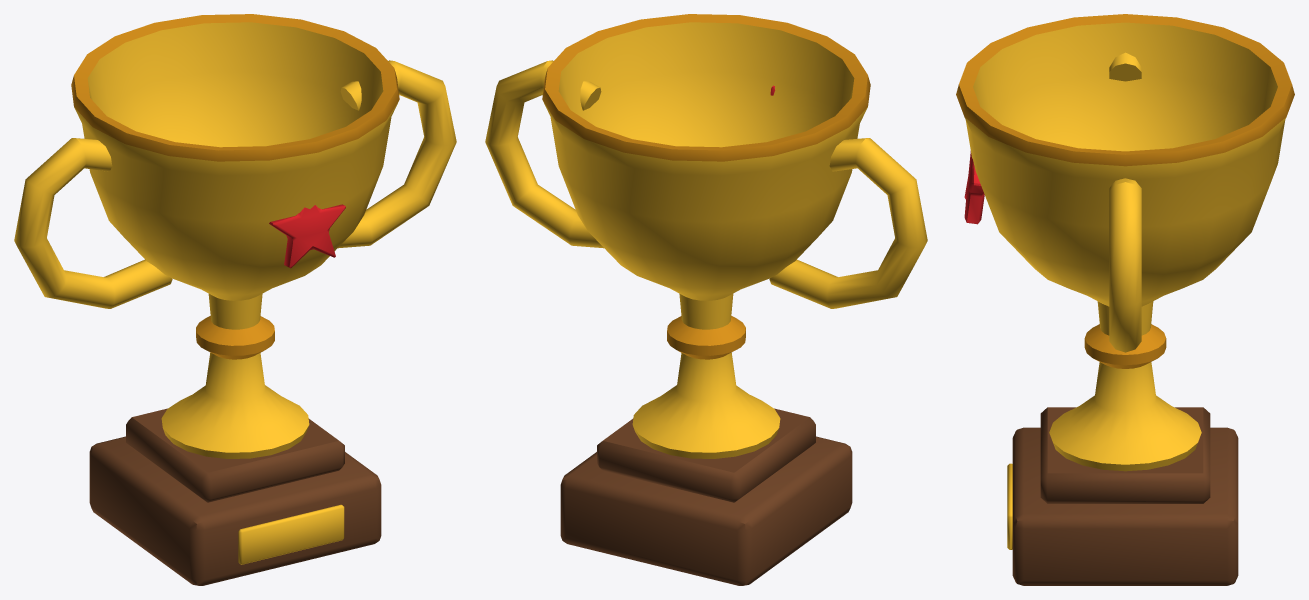
Rendered from Prop_Trophy.fbx.
3 renders of one model, left to right at view 1: azimuth 30°, elevation 25°; view 2: azimuth 150°, elevation 25°; view 3: azimuth 270°, elevation 25°, orthographic. The views are drawn at different scales.
Visible parts, largest first — view 1: Prop_Trophy; view 2: Prop_Trophy; view 3: Prop_Trophy.
Boxes of the visible parts, left/top/right/bottom form: Prop_Trophy: left=14, top=14, right=456, bottom=585; Prop_Trophy: left=485, top=14, right=927, bottom=585; Prop_Trophy: left=956, top=14, right=1294, bottom=585.
Size of the model in its own units: 0.9193 by 0.895 by 0.6.
Materials: 1 (1 with a texture image).
